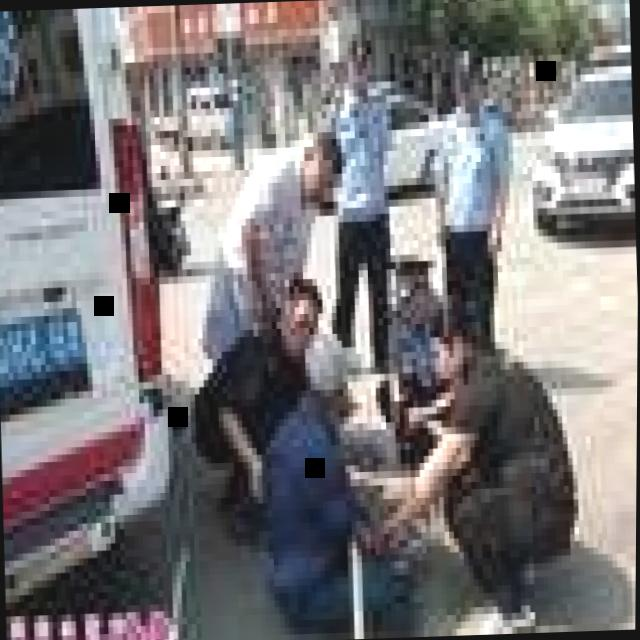Fall-Detected: (256, 310, 432, 634)
